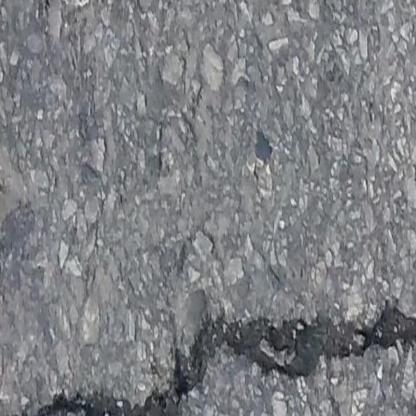Cracks: (6, 301, 416, 416)
